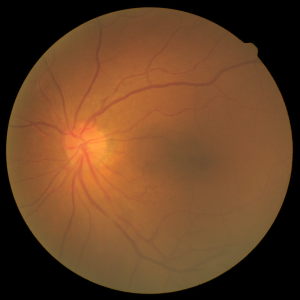cataract: (34, 93, 234, 216)
